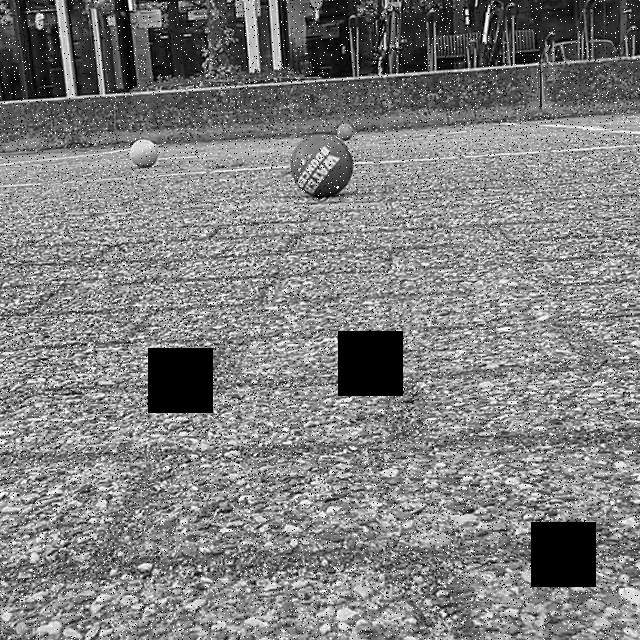ball: (125, 138, 162, 173), (335, 120, 358, 142)
